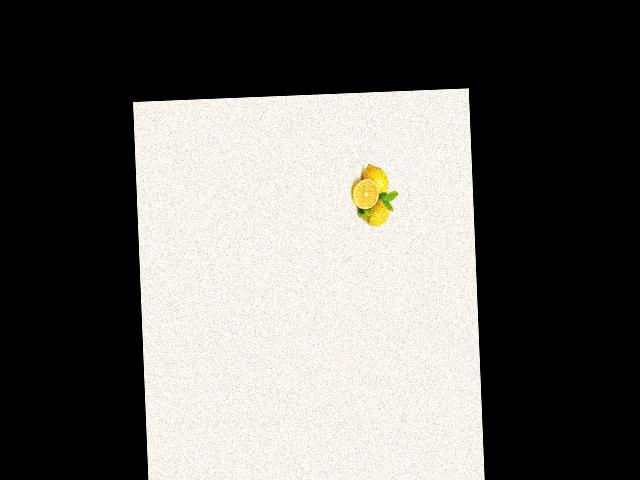lemon: (359, 194, 392, 229)
